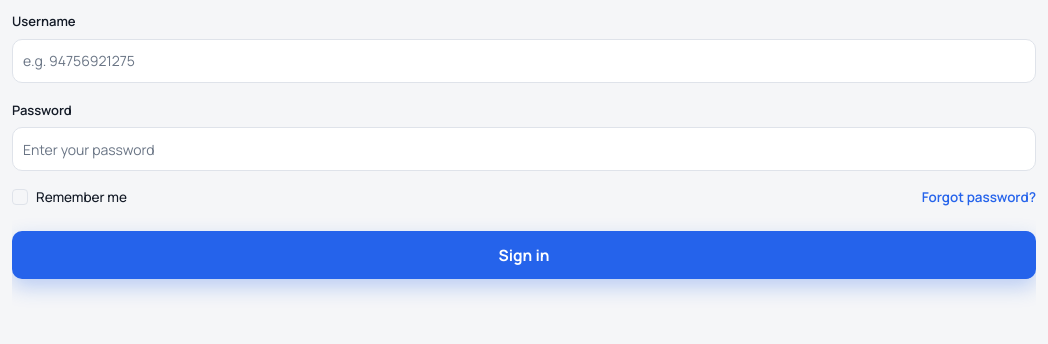
Test case: LoginForm › shows a generic error on a 500
Type "u" into the field with test id "login-form-username" at [524, 60], box [12, 38, 1036, 82]
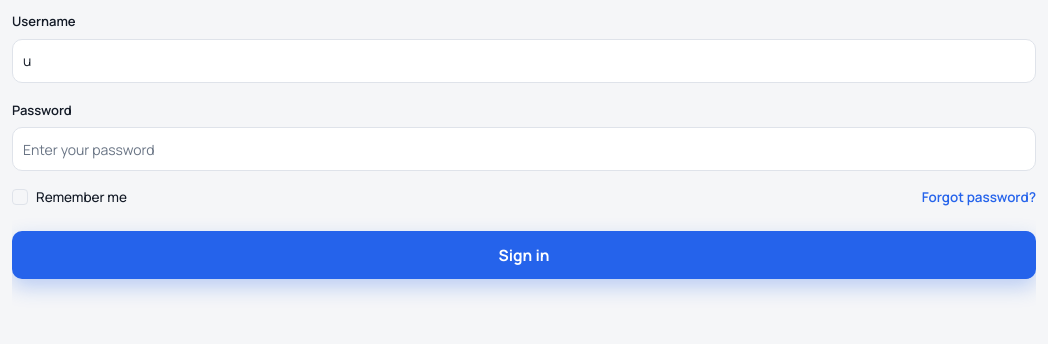
Type "p" into the password field with test id "login-form-password" at [524, 149], box [12, 127, 1036, 171]
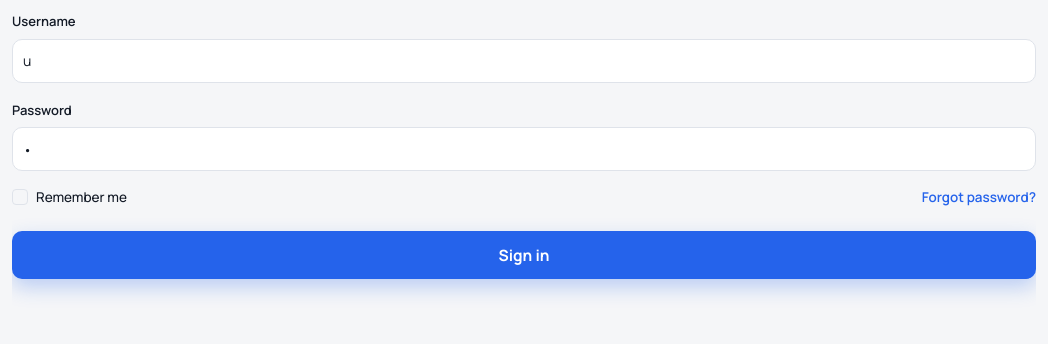
Submit the form
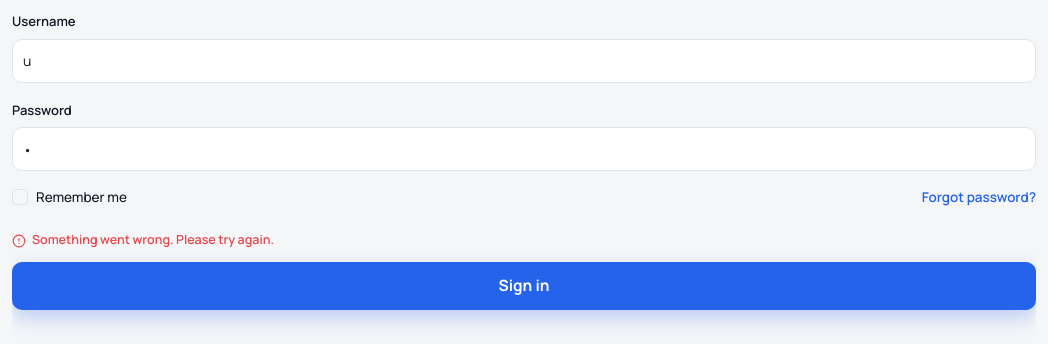
Check: the element with test id "login-form-error" reads "Something went wrong. Please try again.", box [32, 231, 274, 248]
